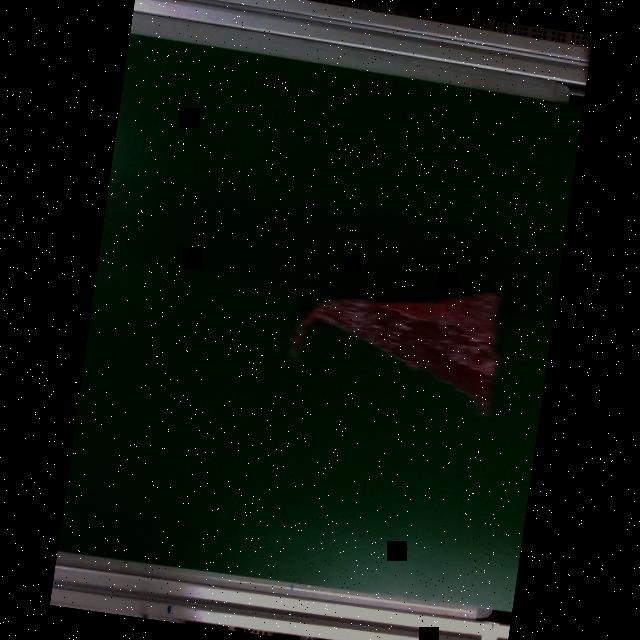scrap_plastic: (279, 264, 509, 402)
